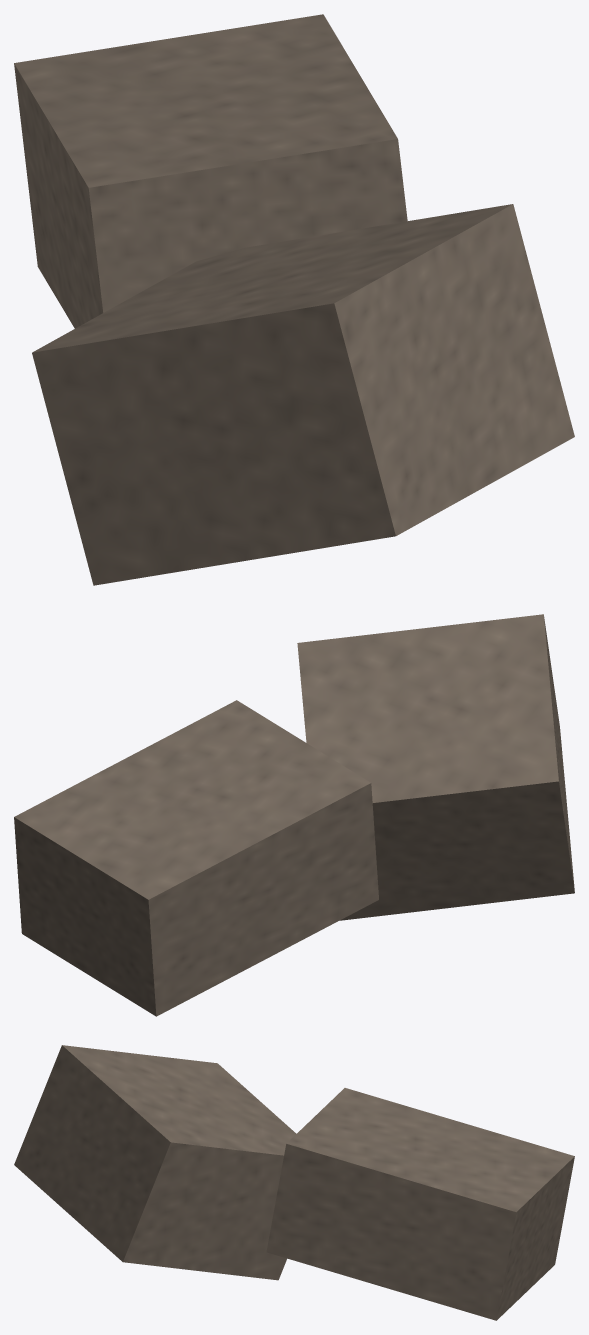
Rendered from Deco_Cailloux_B.obj.
3 renders of one model, top to bottom at view 1: azimuth 30°, elevation 25°; view 2: azimuth 150°, elevation 25°; view 3: azimuth 270°, elevation 25°, orthographic. The views are drawn at different scales.
Visible parts, largest first — view 1: Deco_Cailloux_B; view 2: Deco_Cailloux_B; view 3: Deco_Cailloux_B.
Boxes of the visible parts, x1=… form: Deco_Cailloux_B: x1=14, y1=14, x2=574, y2=585; Deco_Cailloux_B: x1=14, y1=614, x2=574, y2=1016; Deco_Cailloux_B: x1=14, y1=1045, x2=574, y2=1320.
Size of the model in its own units: 1.42 by 0.8592 by 2.19.
Materials: 1 (1 with a texture image).
